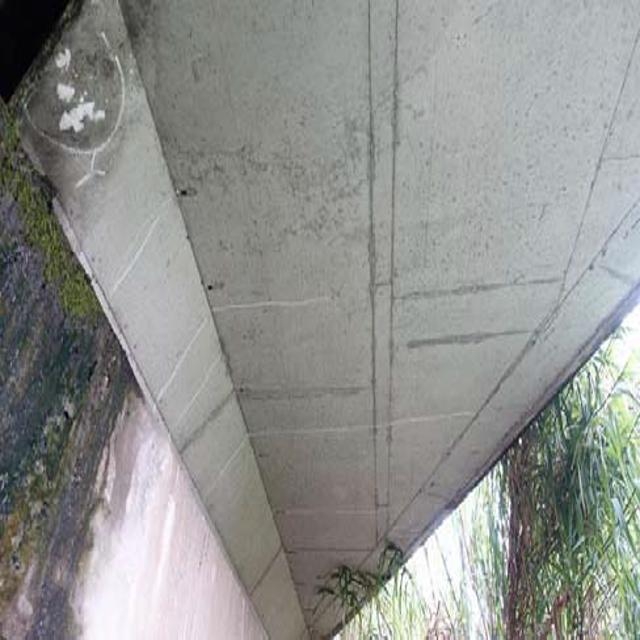freelime: (55, 40, 112, 149)
